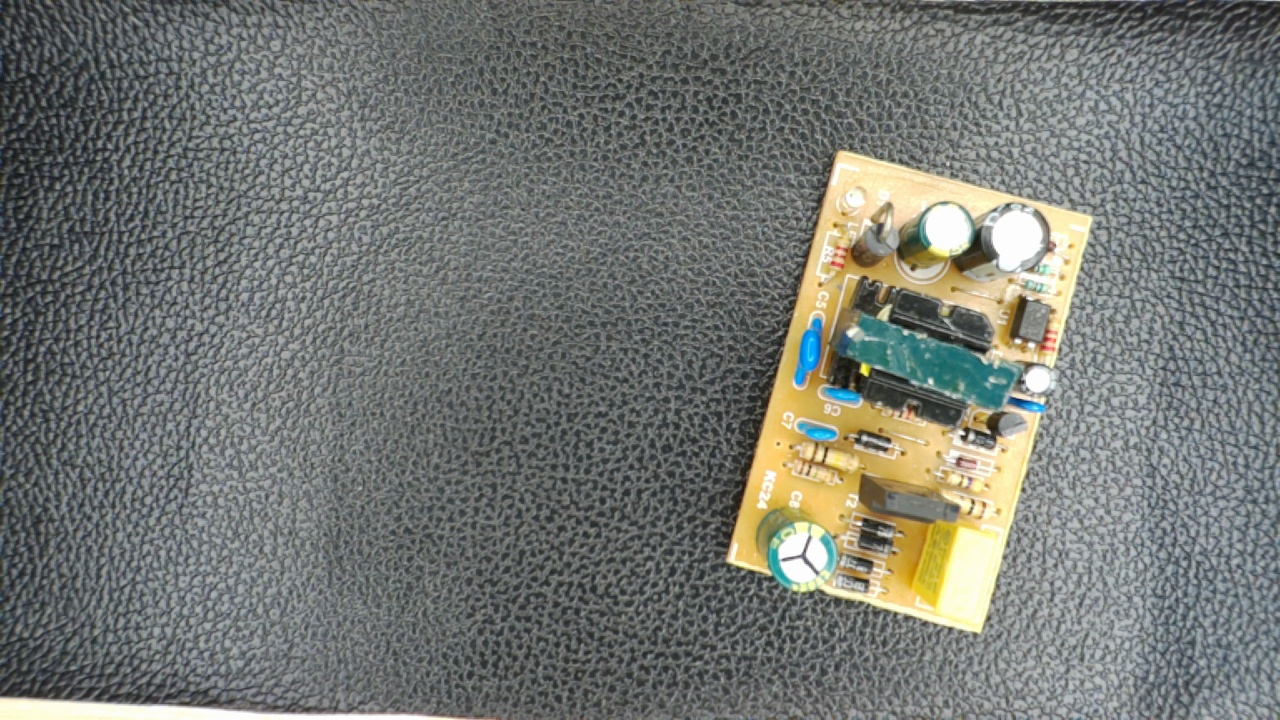hv_capacitor: (756, 506, 840, 596)
mov: (792, 308, 827, 390)
optocoupler: (1013, 294, 1055, 353)
